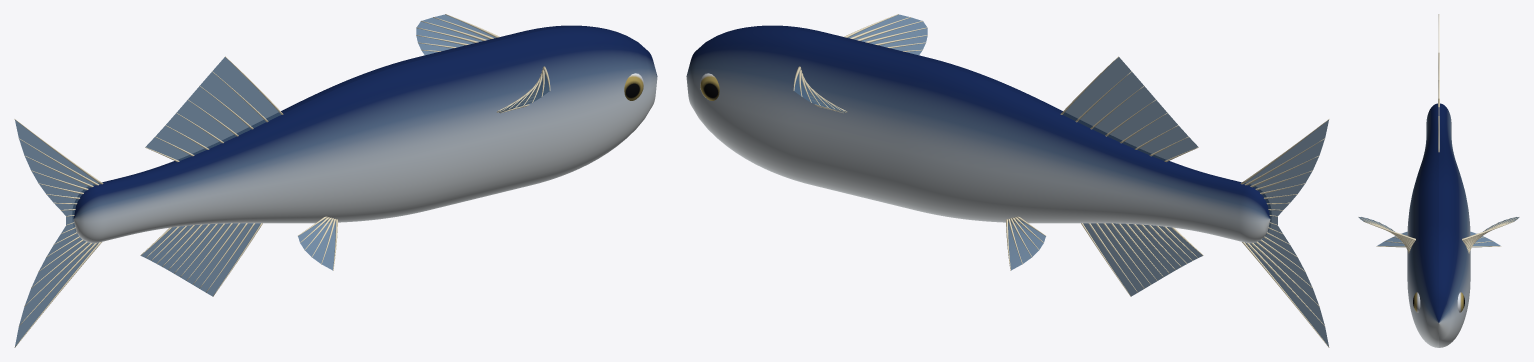
Rendered from zebrafish-dev.glb.
The picture shows the model from 3 angles, left to right: view 1: azimuth 30°, elevation 25°; view 2: azimuth 150°, elevation 25°; view 3: azimuth 270°, elevation 25°; orthographic projection. The views are drawn at different scales.
Visible parts, largest first — view 1: skin_R, dorsal_fin, caudal_fin, anal_fin, caudal_fin_rays, skin_L, pectoral_fin_L, anal_fin_rays, pelvic_fin_R, dorsal_fin_rays, pelvic_fin_rays_R; view 2: skin_L, dorsal_fin, caudal_fin, anal_fin, caudal_fin_rays, skin_R, pectoral_fin_R, anal_fin_rays, pelvic_fin_L, dorsal_fin_rays, pelvic_fin_rays_L; view 3: skin_L, skin_R, pelvic_fin_L, pelvic_fin_R, caudal_fin_rays, dorsal_fin_rays.
Boxes of the visible parts, x1,y1,x2,y2 form: skin_R: [73, 27, 657, 243]; dorsal_fin: [145, 57, 281, 160]; caudal_fin: [15, 120, 100, 346]; anal_fin: [141, 223, 260, 296]; caudal_fin_rays: [14, 119, 103, 347]; skin_L: [72, 25, 627, 230]; pectoral_fin_L: [416, 14, 495, 55]; anal_fin_rays: [140, 223, 262, 296]; pelvic_fin_R: [298, 218, 335, 270]; dorsal_fin_rays: [145, 56, 283, 161]; pelvic_fin_rays_R: [298, 216, 337, 270]; skin_L: [686, 27, 1270, 243]; dorsal_fin: [1062, 57, 1198, 160]; caudal_fin: [1243, 120, 1328, 346]; anal_fin: [1083, 223, 1202, 296]; caudal_fin_rays: [1240, 119, 1329, 347]; skin_R: [716, 25, 1271, 230]; pectoral_fin_R: [848, 14, 927, 55]; anal_fin_rays: [1081, 223, 1203, 296]; pelvic_fin_L: [1008, 218, 1045, 270]; dorsal_fin_rays: [1060, 56, 1198, 161]; pelvic_fin_rays_L: [1006, 216, 1045, 270]; skin_L: [1439, 103, 1470, 347]; skin_R: [1407, 103, 1438, 347]; pelvic_fin_L: [1470, 231, 1500, 246]; pelvic_fin_R: [1377, 231, 1407, 246]; caudal_fin_rays: [1438, 14, 1439, 106]; dorsal_fin_rays: [1438, 80, 1439, 152].
Size of the model in its own units: 0.939 by 0.3352 by 0.283.
